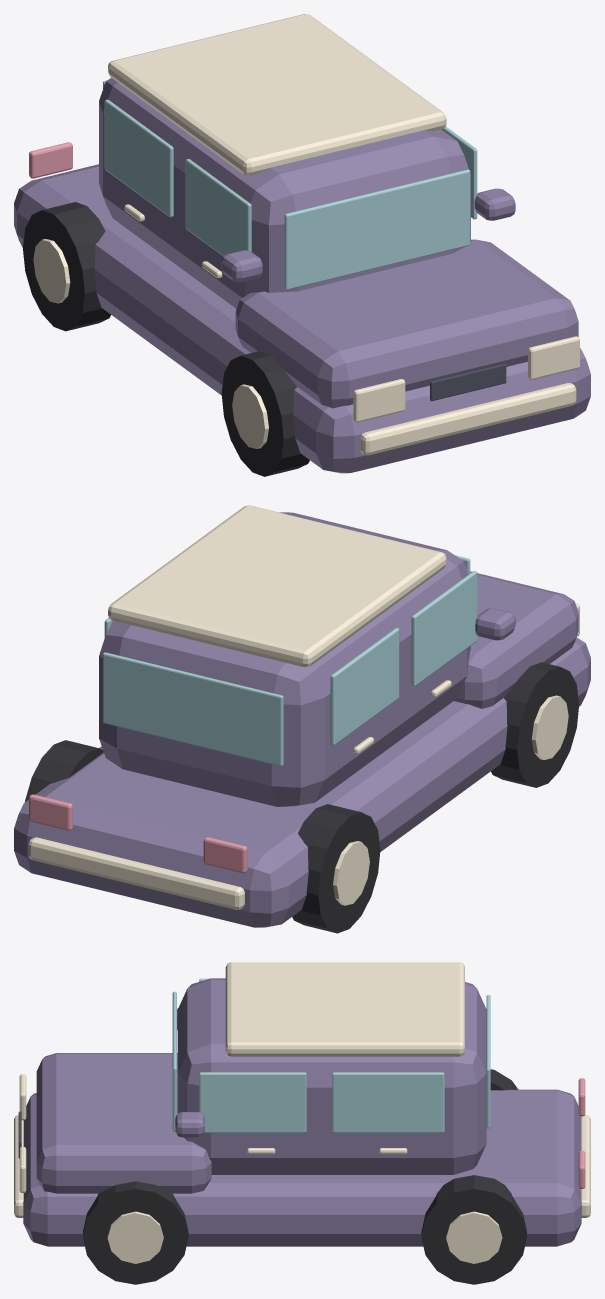
File: car_lilac.glb
3 views of the same model, one above another, from view 1: azimuth 30°, elevation 25°; view 2: azimuth 150°, elevation 25°; view 3: azimuth 270°, elevation 25° (orthographic). The views are drawn at different scales.
Visible parts, largest first — view 1: car_lilac_Mesh; view 2: car_lilac_Mesh; view 3: car_lilac_Mesh.
Part boxes in pixels (x1=…): car_lilac_Mesh: x1=14, y1=14, x2=590, y2=476; car_lilac_Mesh: x1=14, y1=505, x2=590, y2=933; car_lilac_Mesh: x1=14, y1=962, x2=590, y2=1284.
Bounding box in the file's own units: 1.95 × 1.6 × 3.77.
